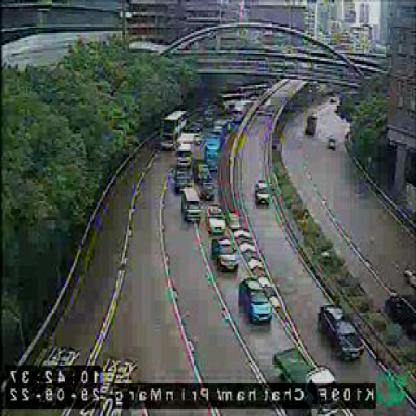Bus: (157, 109, 191, 149), (216, 87, 247, 116)
Car: (320, 300, 369, 362), (240, 272, 274, 331), (213, 233, 242, 278), (195, 160, 218, 198), (203, 203, 229, 234), (208, 118, 237, 145), (169, 166, 195, 196), (234, 97, 259, 125), (183, 187, 204, 220), (255, 175, 274, 210), (203, 137, 225, 165)
Truck: (272, 350, 339, 414), (170, 130, 203, 170)
